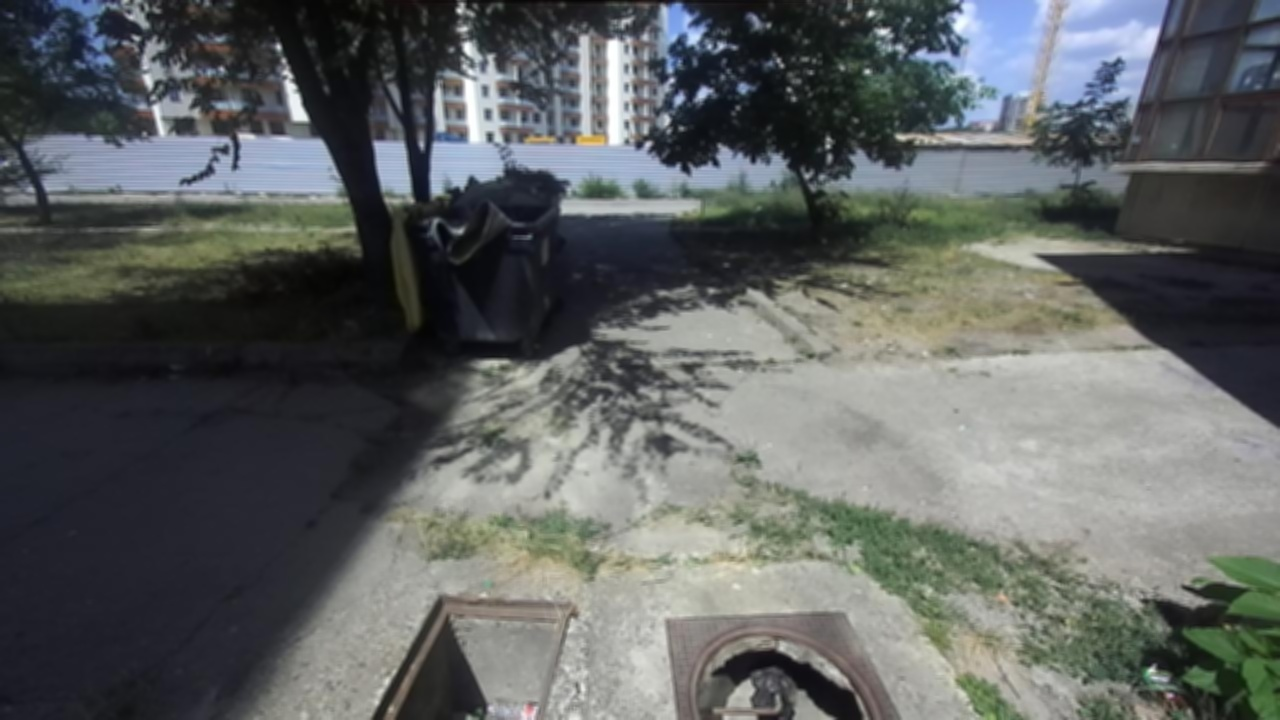drain: (368, 589, 575, 719), (688, 622, 887, 717)
